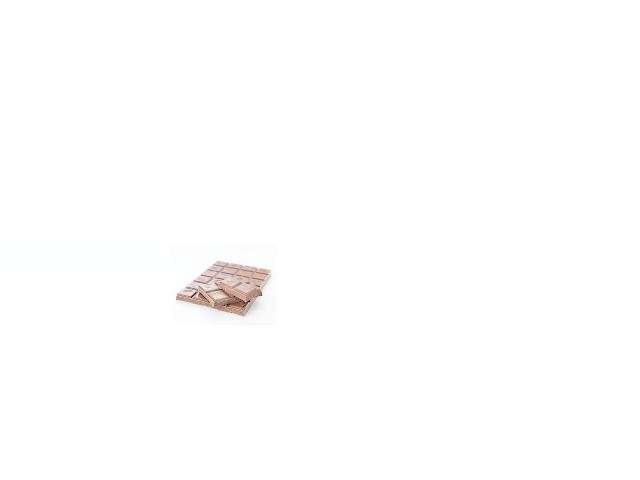chocolate: (174, 256, 272, 320)
